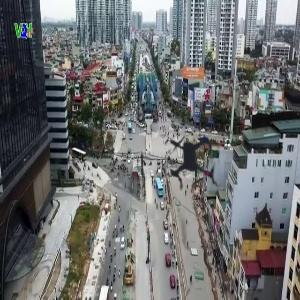drone: (128, 99, 252, 223)
